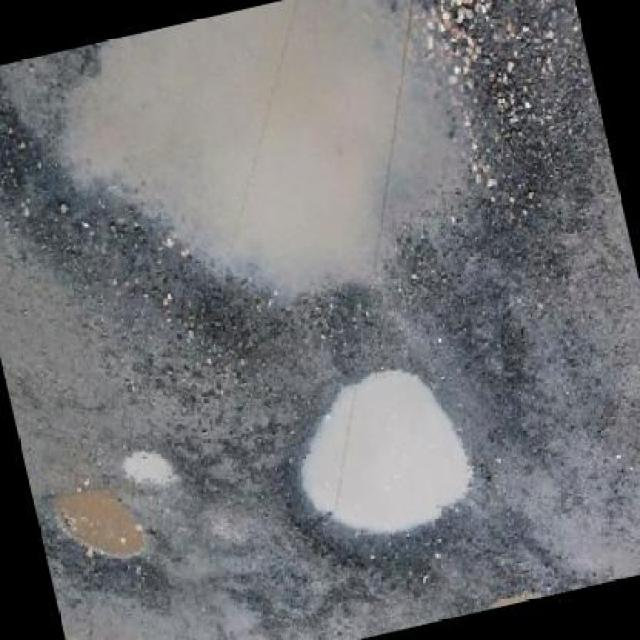pothole: (0, 1, 551, 418), (267, 349, 505, 591), (34, 470, 172, 615), (118, 440, 184, 506)
